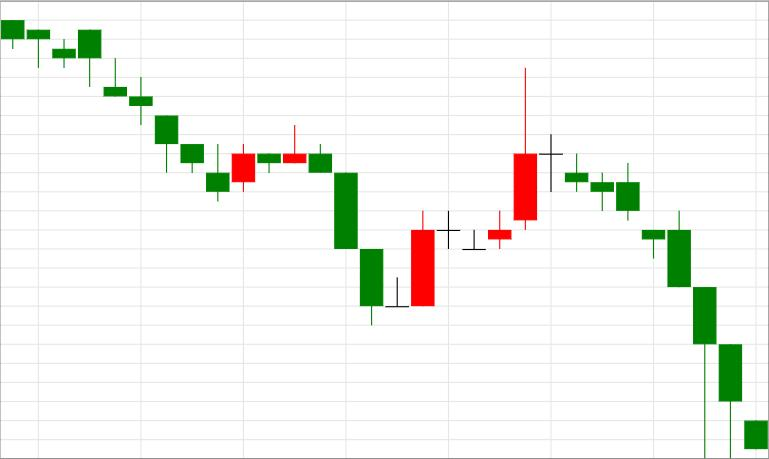hammer_rise: (565, 152, 716, 458)
morning_star_rise: (283, 125, 435, 325)
